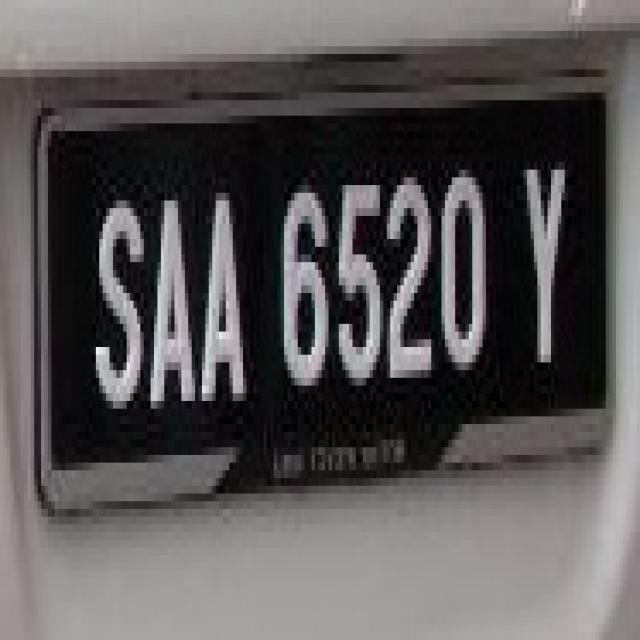licenseplate: (38, 107, 610, 456)
